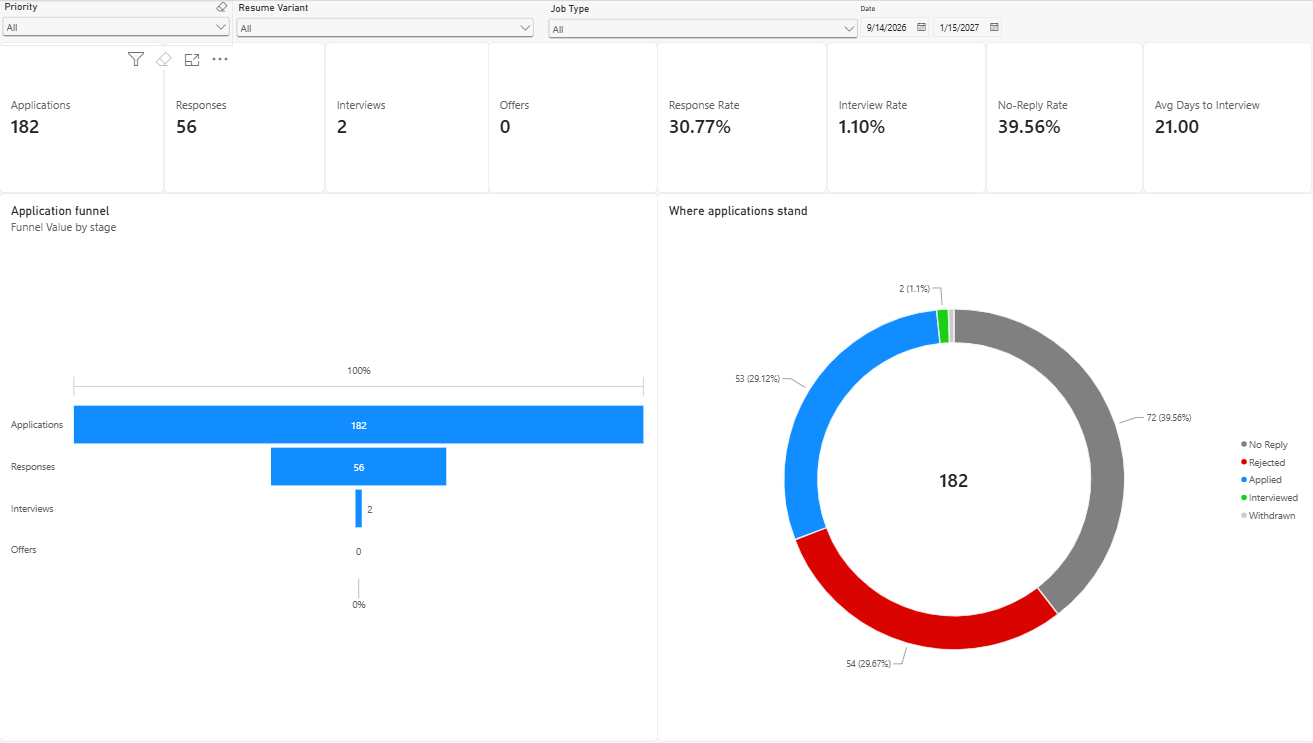

The dashboard page shown, as its layout file describes it:
{"tool":"powerbi","page":{"name":"Funnel","canvas":[1920,1080],"ordinal":0},"visuals":[{"type":"cardVisual","fields":{"Data":["fact_application.Applications"]},"box":[0,59.3,240.2,220.9],"z":0},{"type":"cardVisual","fields":{"Data":["fact_application.Avg Days to Interview"]},"box":[1666.5,59.3,246.1,220.9],"z":1000},{"type":"cardVisual","fields":{"Data":["fact_application.Responses"]},"box":[240.2,59.3,234.3,220.9],"z":2000},{"type":"cardVisual","fields":{"Data":["fact_application.Interviews"]},"box":[474.4,59.3,240.2,220.9],"z":3000},{"type":"cardVisual","fields":{"Data":["fact_application.Offers"]},"box":[711.7,59.3,247.6,220.9],"z":4000},{"type":"cardVisual","fields":{"Data":["fact_application.Response Rate"]},"box":[959.3,59.3,247.6,220.9],"z":5000},{"type":"cardVisual","fields":{"Data":["fact_application.Interview Rate"]},"box":[1206.9,59.3,231.3,220.9],"z":6000},{"type":"cardVisual","fields":{"Data":["fact_application.No-Reply Rate"]},"box":[1438.1,59.3,228.3,220.9],"z":7000},{"type":"funnel","title":"Application funnel","fields":{"Category":["funnel_stage.stage"],"Y":["funnel_stage.Funnel Value"]},"box":[0,280.2,960.7,799.1],"z":8000},{"type":"donutChart","title":"Where applications stand","fields":{"Category":["dim_status.application_status"],"Y":["fact_application.Applications"]},"box":[959.3,280.2,960.7,799.1],"z":9000},{"type":"slicer","fields":{"Values":["dim_priority.priority"]},"box":[0,0,341,65.2],"z":10000},{"type":"slicer","fields":{"Values":["dim_resume_variant.resume_variant"]},"box":[341,1.5,443.3,62.3],"z":11000},{"type":"slicer","fields":{"Values":["dim_job_type.job_type"]},"box":[794.7,3,461.1,62.3],"z":12000},{"type":"slicer","fields":{"Values":["dim_date.date"]},"box":[1246.9,4.4,665.7,54.9],"z":13000}]}

Visuals, with their boxes in screenshot pixels (x1, y1, x2, y2), scaled from the page's 1920x1080 canvas onto the 1313x743 screenshot:
cardVisual - fact_application.Applications: (x1=0, y1=41, x2=164, y2=193)
cardVisual - fact_application.Avg Days to Interview: (x1=1140, y1=41, x2=1308, y2=193)
cardVisual - fact_application.Responses: (x1=164, y1=41, x2=324, y2=193)
cardVisual - fact_application.Interviews: (x1=324, y1=41, x2=489, y2=193)
cardVisual - fact_application.Offers: (x1=487, y1=41, x2=656, y2=193)
cardVisual - fact_application.Response Rate: (x1=656, y1=41, x2=825, y2=193)
cardVisual - fact_application.Interview Rate: (x1=825, y1=41, x2=984, y2=193)
cardVisual - fact_application.No-Reply Rate: (x1=983, y1=41, x2=1140, y2=193)
"Application funnel" funnel: (x1=0, y1=193, x2=657, y2=742)
"Where applications stand" donutChart: (x1=656, y1=193, x2=1312, y2=742)
slicer - dim_priority.priority: (x1=0, y1=0, x2=233, y2=45)
slicer - dim_resume_variant.resume_variant: (x1=233, y1=1, x2=536, y2=44)
slicer - dim_job_type.job_type: (x1=543, y1=2, x2=859, y2=45)
slicer - dim_date.date: (x1=853, y1=3, x2=1308, y2=41)
